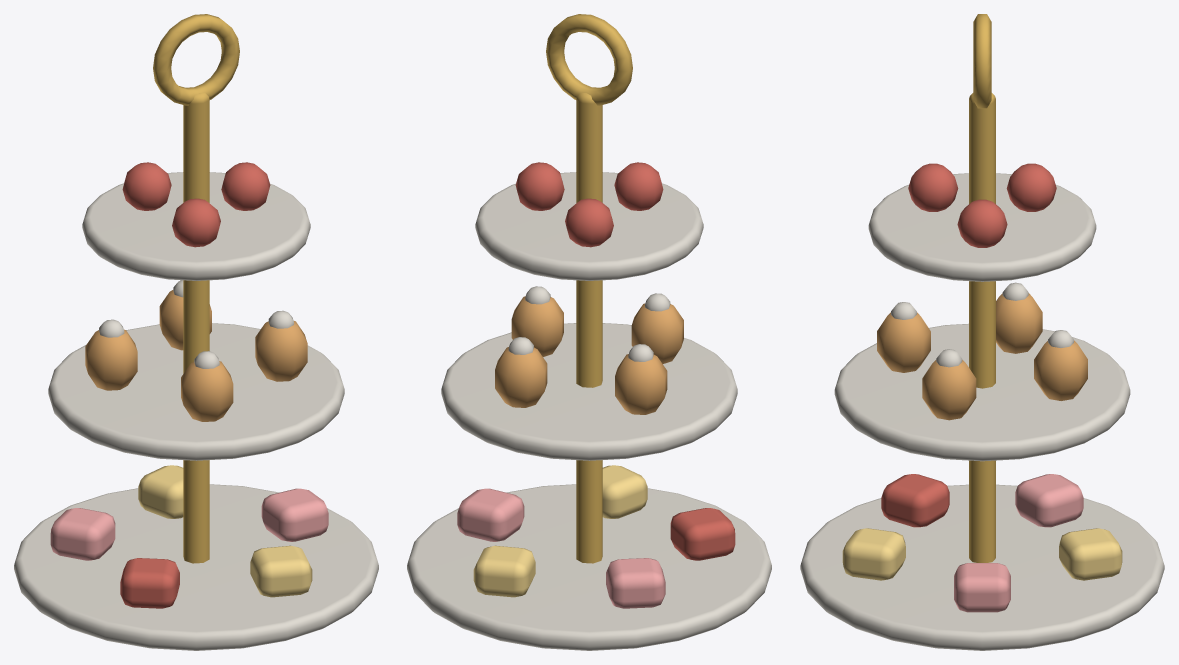
The model's file is tiered_tea_stand.glb.
3 views of the same model, side by side, from view 1: azimuth 30°, elevation 25°; view 2: azimuth 150°, elevation 25°; view 3: azimuth 270°, elevation 25° (orthographic).
Parts seen in each view (by area): view 1: tiered_tea_stand_mesh; view 2: tiered_tea_stand_mesh; view 3: tiered_tea_stand_mesh.
Boxes of the visible parts, x1=… form: tiered_tea_stand_mesh: x1=14, y1=14, x2=378, y2=650; tiered_tea_stand_mesh: x1=407, y1=14, x2=771, y2=650; tiered_tea_stand_mesh: x1=800, y1=14, x2=1164, y2=650.
Size of the model in its own units: 0.32 by 0.5719 by 0.32.
